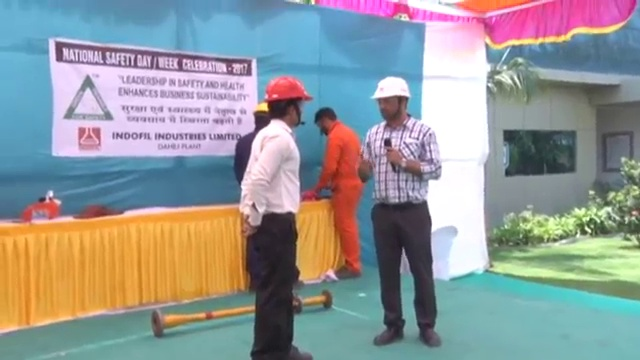helmet: (264, 75, 316, 102), (368, 73, 412, 102), (252, 100, 272, 117)
helmet_off: (312, 105, 340, 138)
helmet_on: (264, 72, 315, 134), (368, 73, 414, 130), (249, 98, 273, 133)
person: (358, 72, 444, 348), (240, 74, 315, 360), (312, 104, 364, 281), (232, 99, 276, 187)
